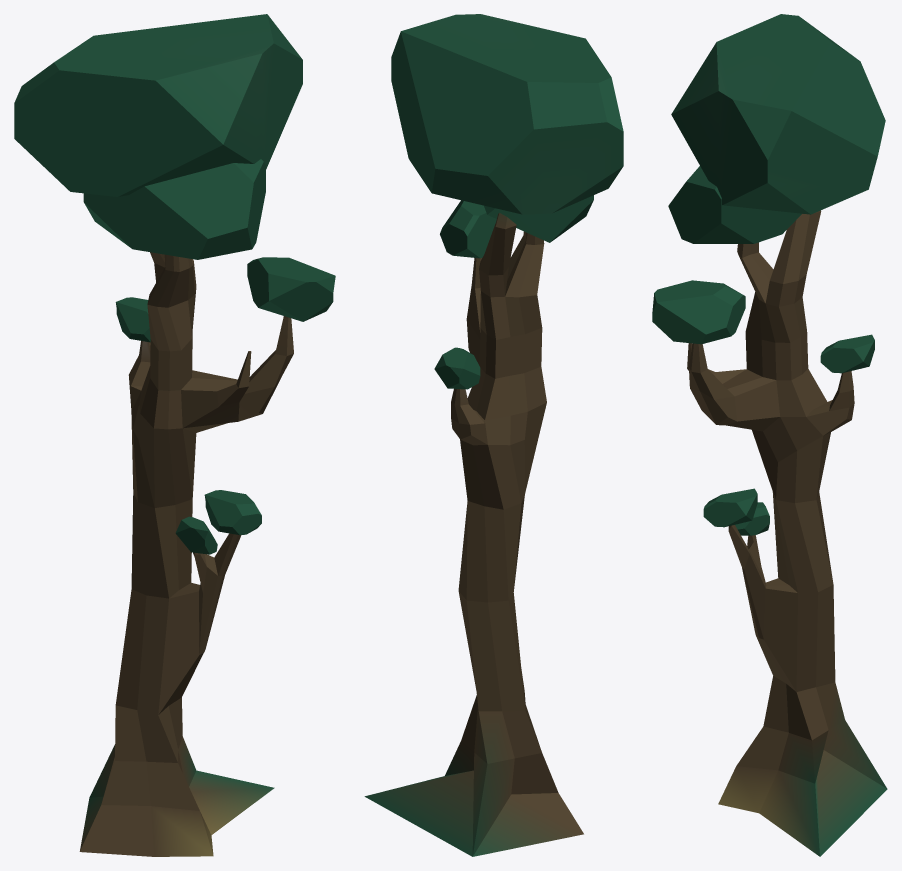
Rendered from Owl_Tree.fbx.
The picture shows the model from 3 angles, left to right: view 1: azimuth 30°, elevation 25°; view 2: azimuth 150°, elevation 25°; view 3: azimuth 270°, elevation 25°; orthographic projection. The views are drawn at different scales.
Visible parts, largest first — view 1: Cube.507; view 2: Cube.507; view 3: Cube.507.
Part boxes in pixels (left/top/right/bottom): Cube.507: left=14, top=14, right=335, bottom=856; Cube.507: left=364, top=14, right=623, bottom=856; Cube.507: left=652, top=14, right=887, bottom=856.
Size of the model in its own units: 738 by 2101 by 609.
